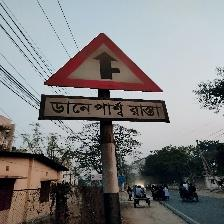Side-road-right: (40, 34, 168, 123)
